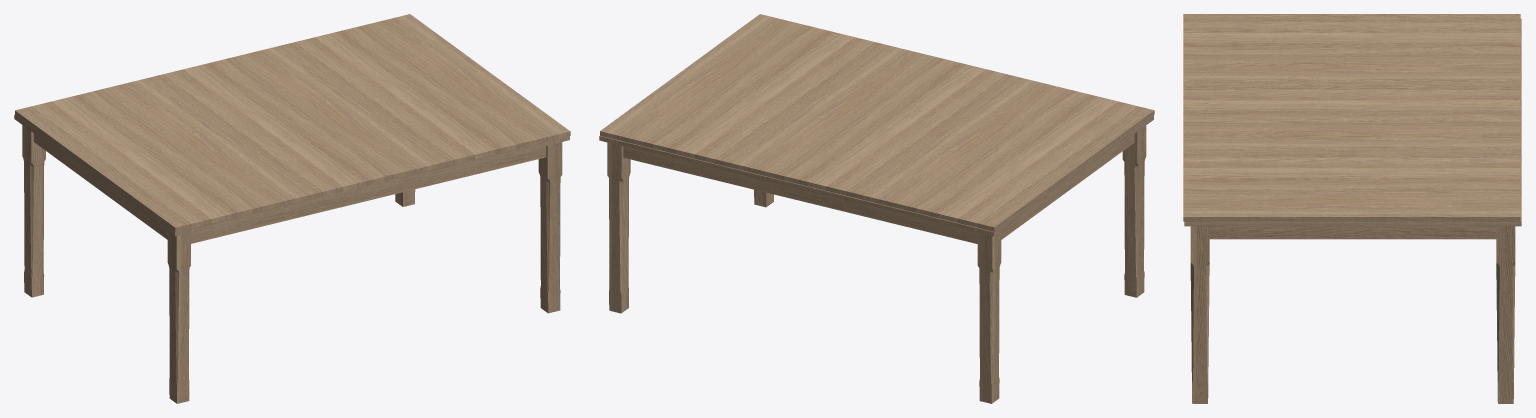
File: Midgard.glb
The picture shows the model from 3 angles, left to right: view 1: azimuth 30°, elevation 25°; view 2: azimuth 150°, elevation 25°; view 3: azimuth 270°, elevation 25°; orthographic projection. The views are drawn at different scales.
Parts seen in each view (by area): view 1: Geom3D (×8); view 2: Geom3D (×8); view 3: Geom3D (×7).
Part boxes in pixels (x1,y1,x2,y2): Geom3D (×8): (14, 14, 570, 403); Geom3D (×8): (599, 14, 1154, 403); Geom3D (×7): (1183, 14, 1521, 403).
Size of the model in its own units: 1.76 by 0.7681 by 1.24.
Materials: 3 (2 with a texture image).
